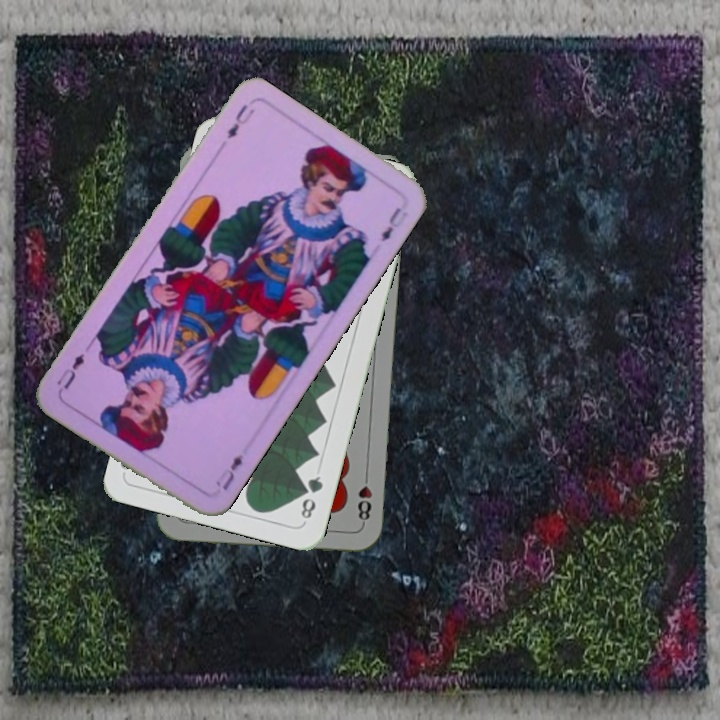EU: (223, 100, 258, 142), (218, 450, 246, 493)
G8: (297, 472, 326, 525)
H8: (353, 468, 375, 527)
